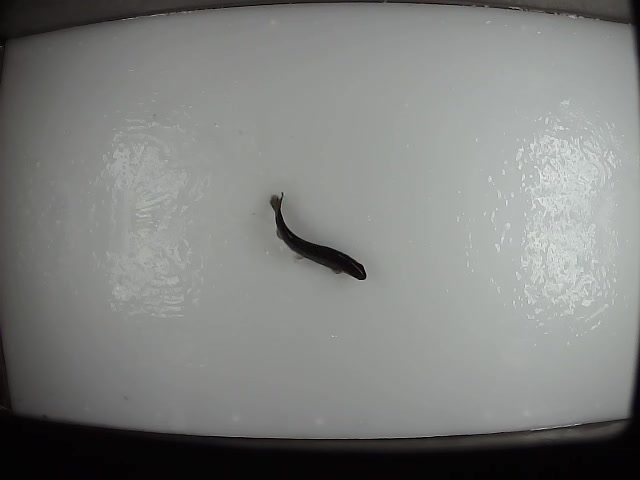fish: (267, 189, 369, 281)
